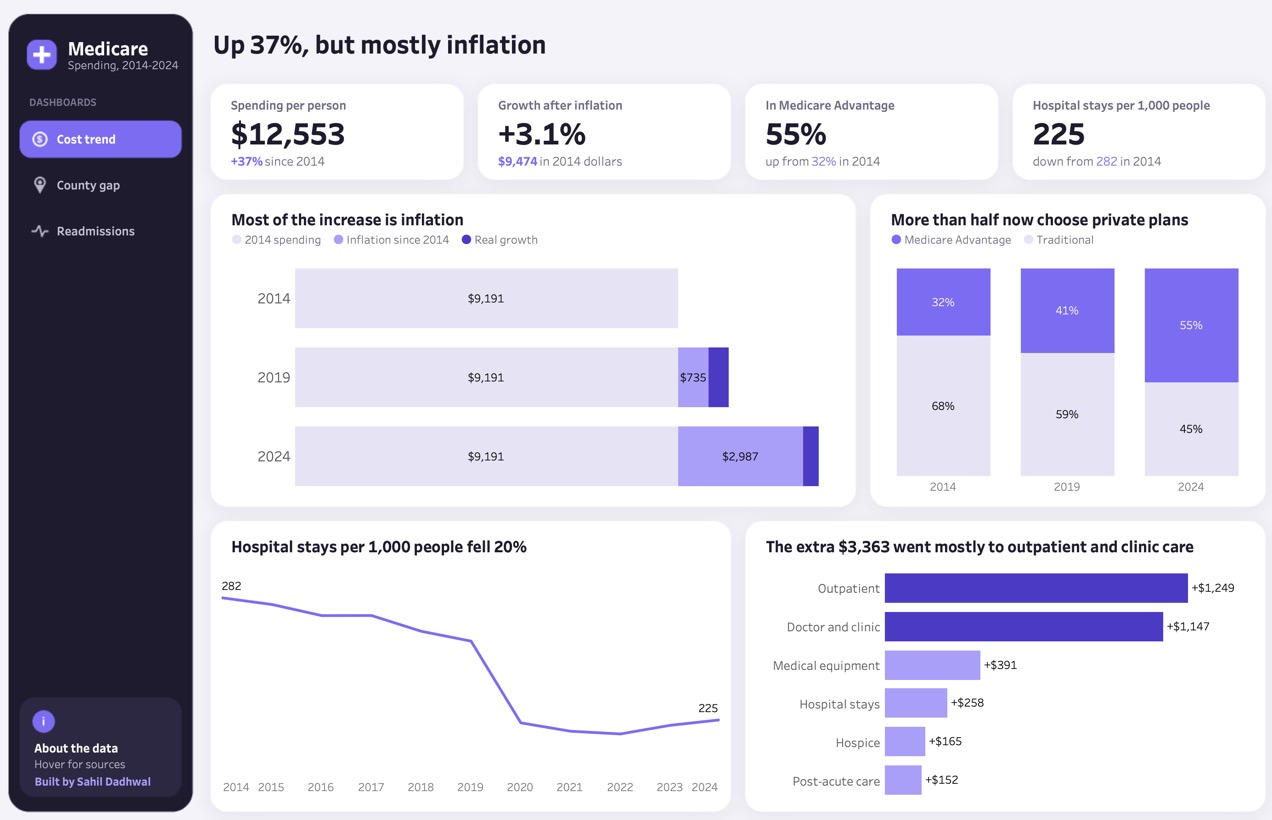

What the dashboard file says about the page in this screenshot:
{"tool":"tableau","page":{"name":"1 Cost Trend","canvas":[1400,900],"ordinal":0},"visuals":[{"type":"image","param":"Image/bg_tab1.png","box":[0,0,1400,900]},{"type":"text","box":[236,30,1148,36]},{"type":"text","box":[78,42,130,22]},{"type":"text","box":[78,63,130,16]},{"type":"worksheet","title":"T1 KPI Spending","mark":"Text","box":[254,102,249,88]},{"type":"worksheet","title":"T1 KPI Real Growth","mark":"Text","box":[545,102,249,88]},{"type":"worksheet","title":"T1 KPI MA","mark":"Text","box":[836,102,249,88]},{"type":"worksheet","title":"T1 KPI Hospital Stays","mark":"Text","box":[1127,102,249,88]},{"type":"text","box":[36,104,150,16]},{"type":"text","box":[66,143,138,18]},{"type":"dashboard-object","box":[28,182,176,40]},{"type":"text","box":[66,193,138,18]},{"type":"text","box":[256,228,661.8,22]},{"type":"text","box":[973.8,228,390.2,22]},{"type":"dashboard-object","box":[28,232,176,40]},{"type":"text","box":[66,243,138,18]},{"type":"text","box":[256,252,661.8,18]},{"type":"text","box":[973.8,252,390.2,18]},{"type":"worksheet","title":"T1 Spending Split","mark":"Bar","rows":["year_label"],"cols":["value"],"box":[248,282,677.8,258]},{"type":"worksheet","title":"T1 MA Split","mark":"Bar","rows":["value"],"cols":["year_label"],"box":[965.8,282,406.2,258]},{"type":"text","box":[256,584,526,22]},{"type":"text","box":[838,584,526,22]},{"type":"worksheet","title":"T1 Hospital Stays","mark":"Line","rows":["hospital_stays_per_1000"],"cols":["year"],"box":[248,620,542,252]},{"type":"worksheet","title":"T1 Spending Change","mark":"Bar","rows":["care_group"],"cols":["change_per_person"],"box":[830,620,542,252]},{"type":"worksheet","title":"About 1 Cost Trend","mark":"Text","box":[40,804,158,40]},{"type":"text","box":[42,842,152,18]}]}

Visuals, with their boxes on the page's 1400x900 design canvas (x1, y1, x2, y2). These are canvas units, not pixel positions in the 1272x820 screenshot, which may show the page scaled, cropped or inside an application window:
image: 0:0:1400:900
text: 236:30:1384:66
text: 78:42:208:64
text: 78:63:208:79
"T1 KPI Spending" worksheet (Text marks): 254:102:503:190
"T1 KPI Real Growth" worksheet (Text marks): 545:102:794:190
"T1 KPI MA" worksheet (Text marks): 836:102:1085:190
"T1 KPI Hospital Stays" worksheet (Text marks): 1127:102:1376:190
text: 36:104:186:120
text: 66:143:204:161
dashboard-object: 28:182:204:222
text: 66:193:204:211
text: 256:228:918:250
text: 974:228:1364:250
dashboard-object: 28:232:204:272
text: 66:243:204:261
text: 256:252:918:270
text: 974:252:1364:270
"T1 Spending Split" worksheet (Bar marks): 248:282:926:540
"T1 MA Split" worksheet (Bar marks): 966:282:1372:540
text: 256:584:782:606
text: 838:584:1364:606
"T1 Hospital Stays" worksheet (Line marks): 248:620:790:872
"T1 Spending Change" worksheet (Bar marks): 830:620:1372:872
"About 1 Cost Trend" worksheet (Text marks): 40:804:198:844
text: 42:842:194:860
